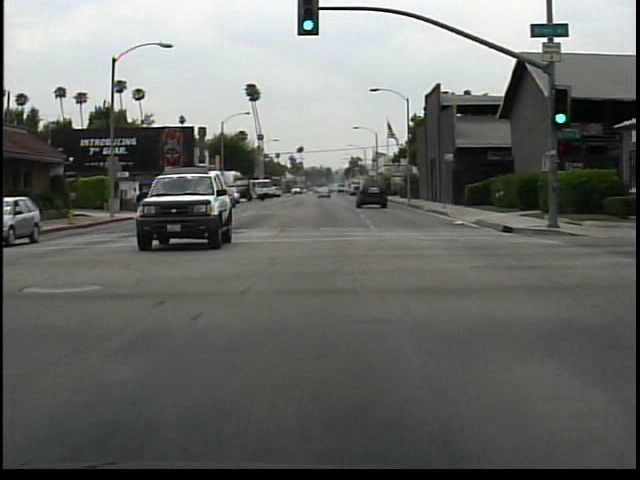person: (131, 183, 145, 215)
